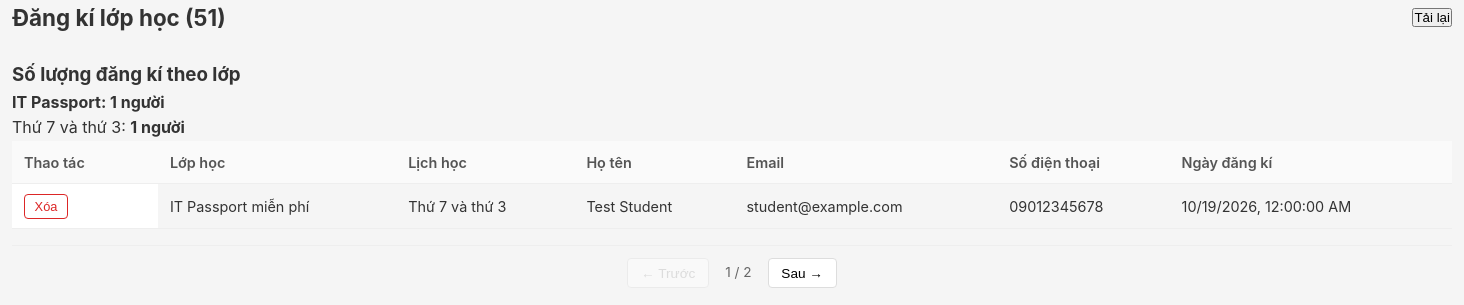
Test: returns to the previous page when the last row is deleted
The image size is (1464, 305).
Click the button "Sau →": (802, 273) x1=768 y1=258 x2=837 y2=288
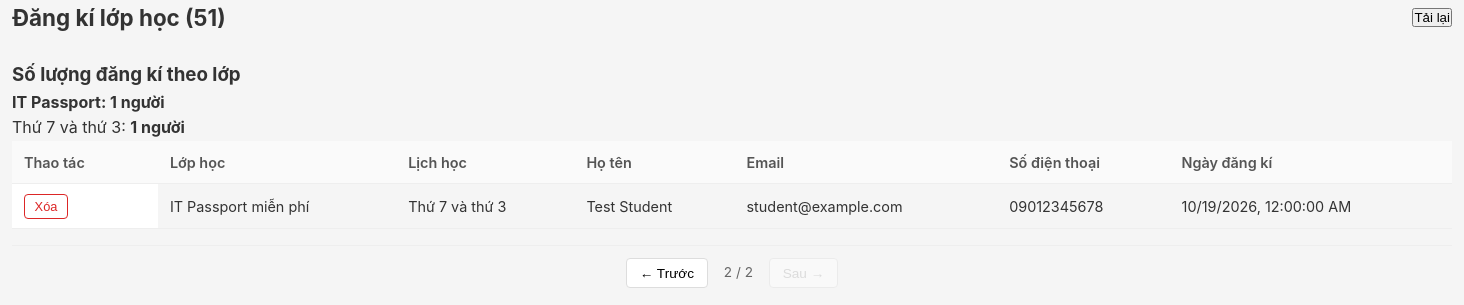
Expected: the text "2 / 2" is shown, x1=724 y1=262 x2=753 y2=284
Click the button "Xóa": (46, 206) x1=24 y1=194 x2=68 y2=219
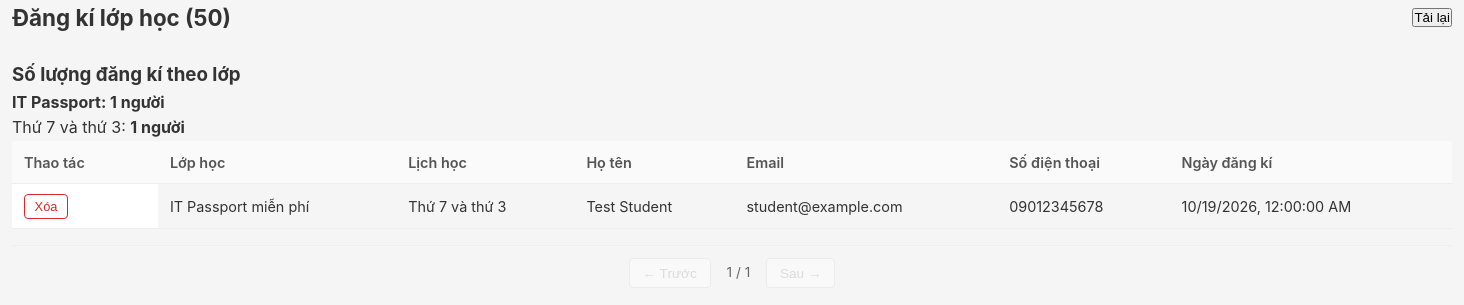
Expected: the heading "Đăng kí lớp học (50)" is shown, x1=12 y1=0 x2=231 y2=36
